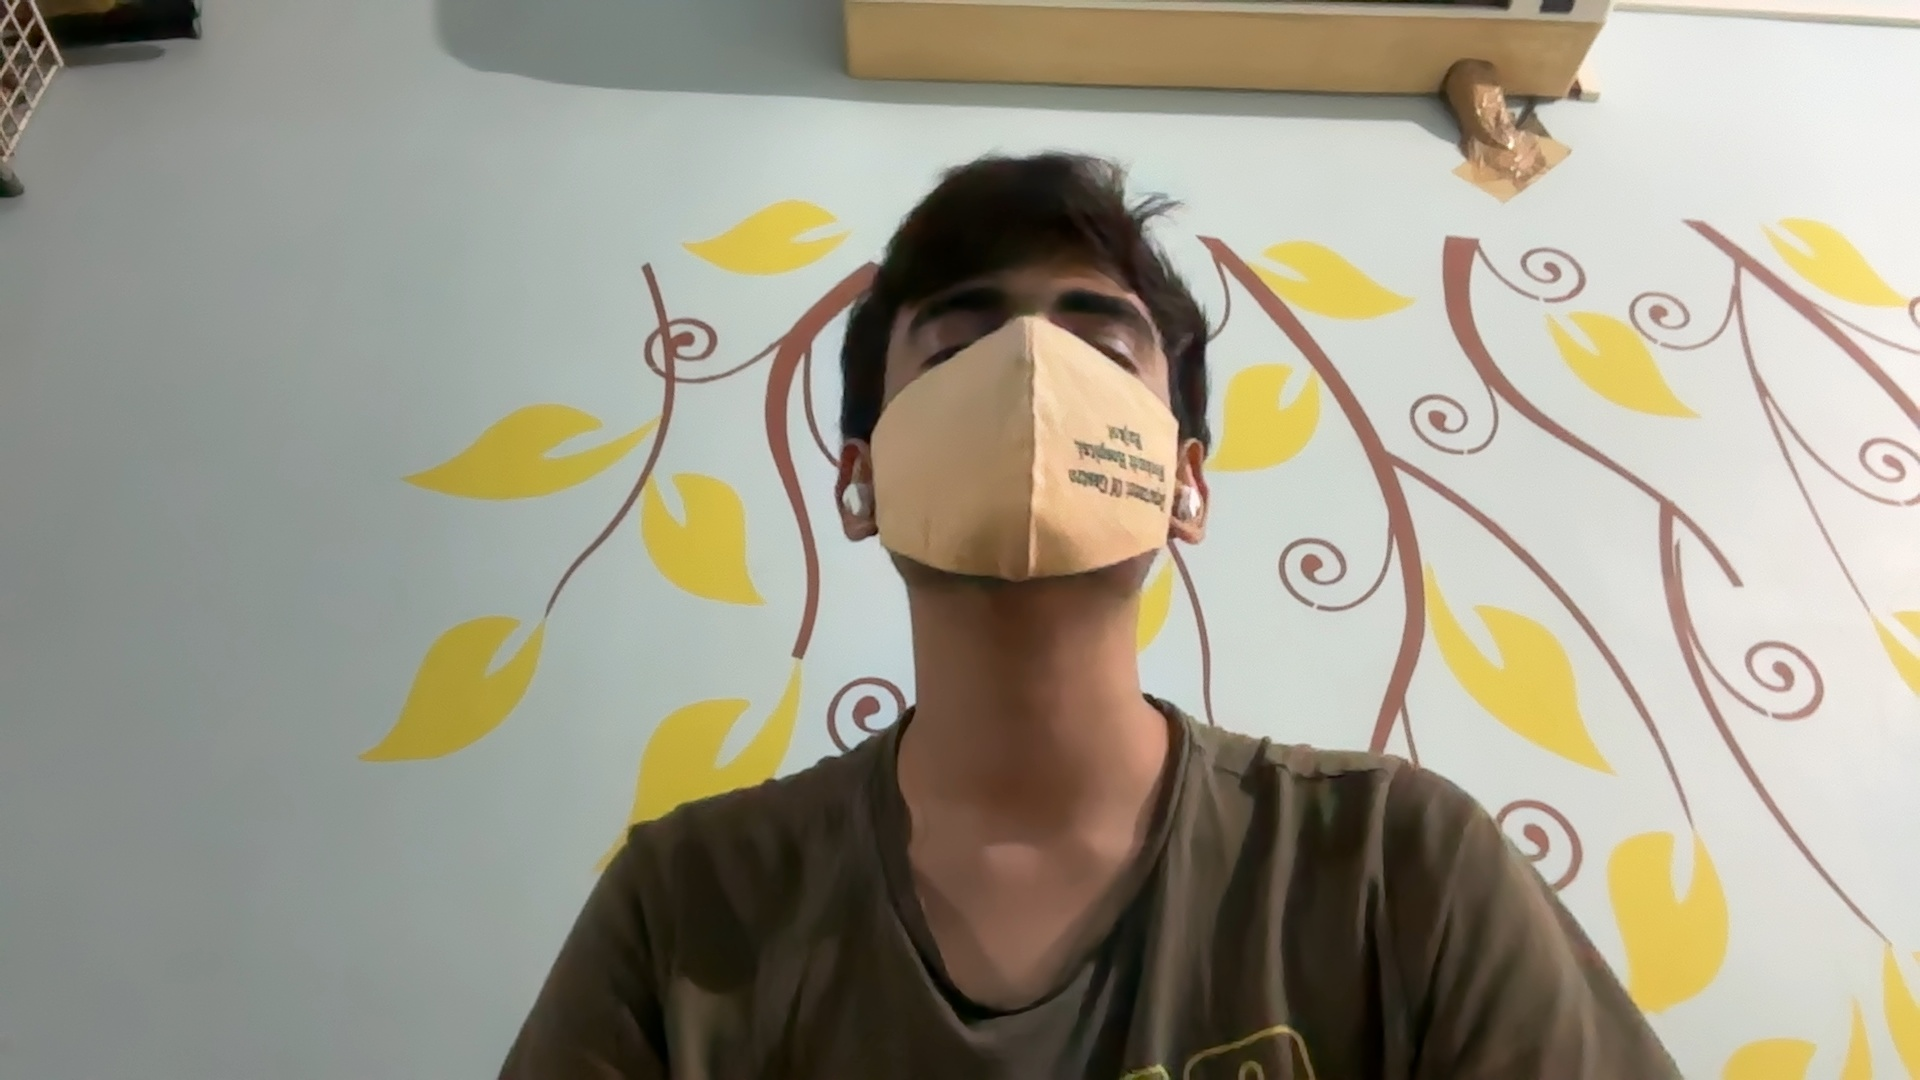Mask: (875, 334, 1193, 598)
